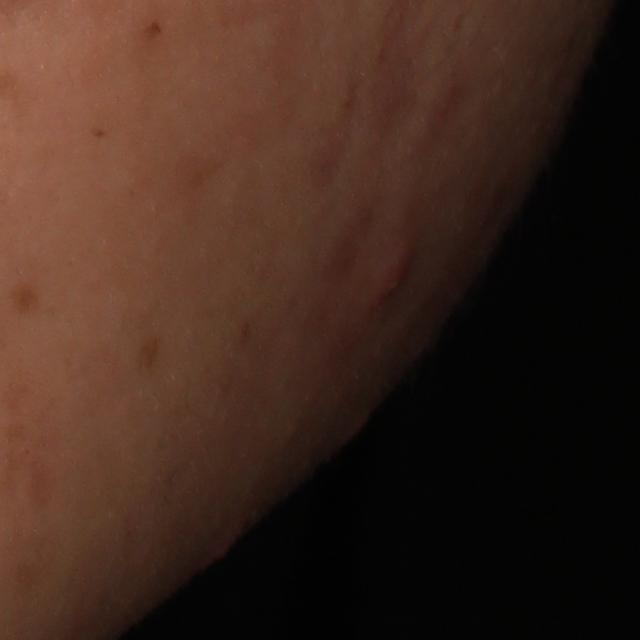papule: (360, 229, 424, 308)
